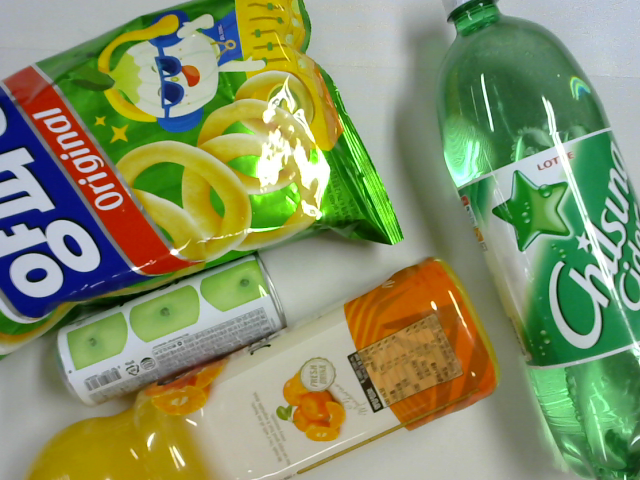Chilseong_Cider_1.5L: (435, 1, 639, 480)
Demisoda_Apple_Can_250ml: (53, 250, 291, 396)
Jeju_Tangerine_1.5L: (21, 258, 502, 480)
Oninon_Ring: (3, 2, 409, 352)
